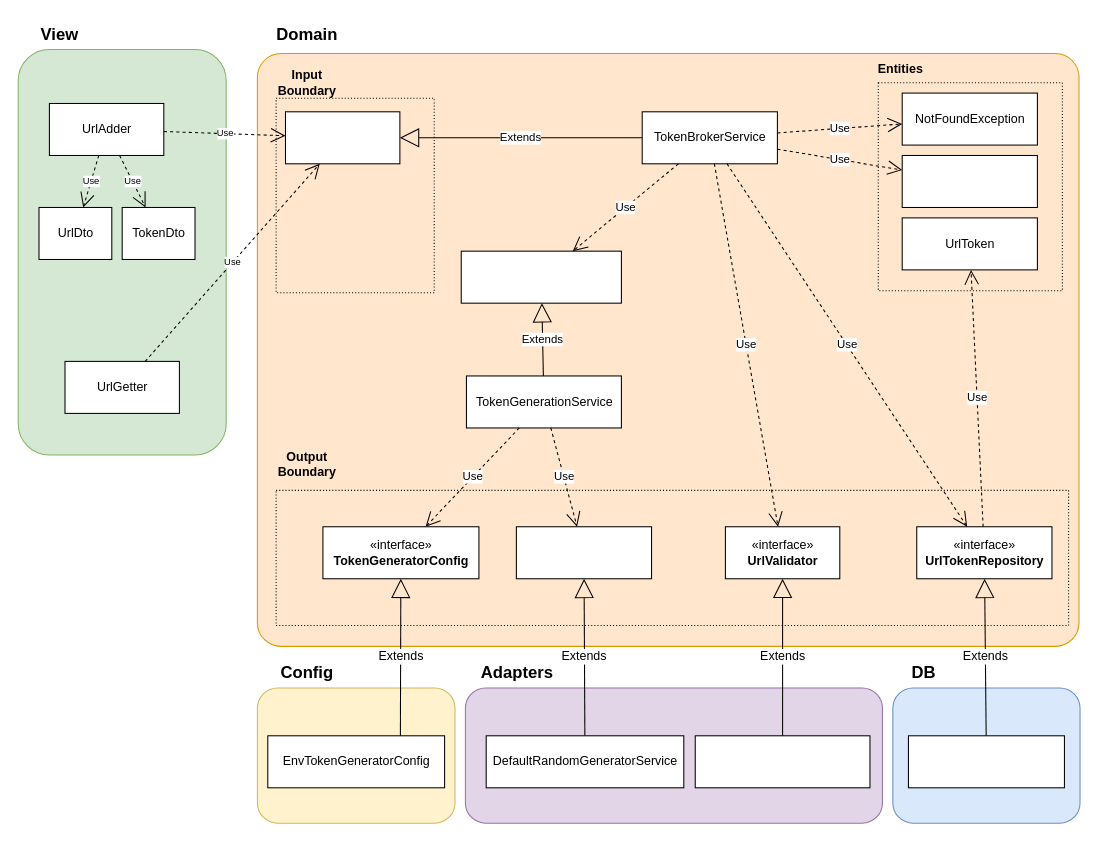
Image size: 1098x841. Some labels were removed from this diagram. The shapes that lost their labels are listed below. From the top down, each one's centre as x and y in pixels, then its label:
At (x=342, y=137): "«interface» TokenBroker".
At (x=969, y=180): "BusinessException".
At (x=540, y=276): "«interface» TokenGenerator".
At (x=583, y=552): "«interface» RandomGenerator".
At (x=782, y=761): "ValidatorsUrlValidatorService".
At (x=985, y=761): "ModelUrlTokenRepository".
